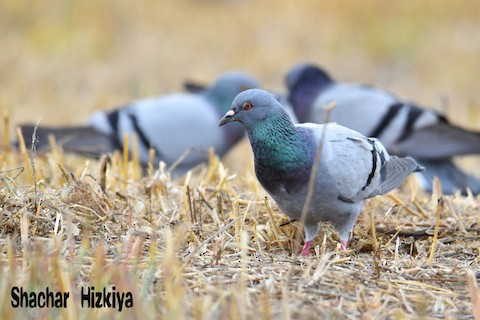pigeon: (220, 88, 424, 257), (9, 74, 275, 187), (277, 61, 470, 196)
